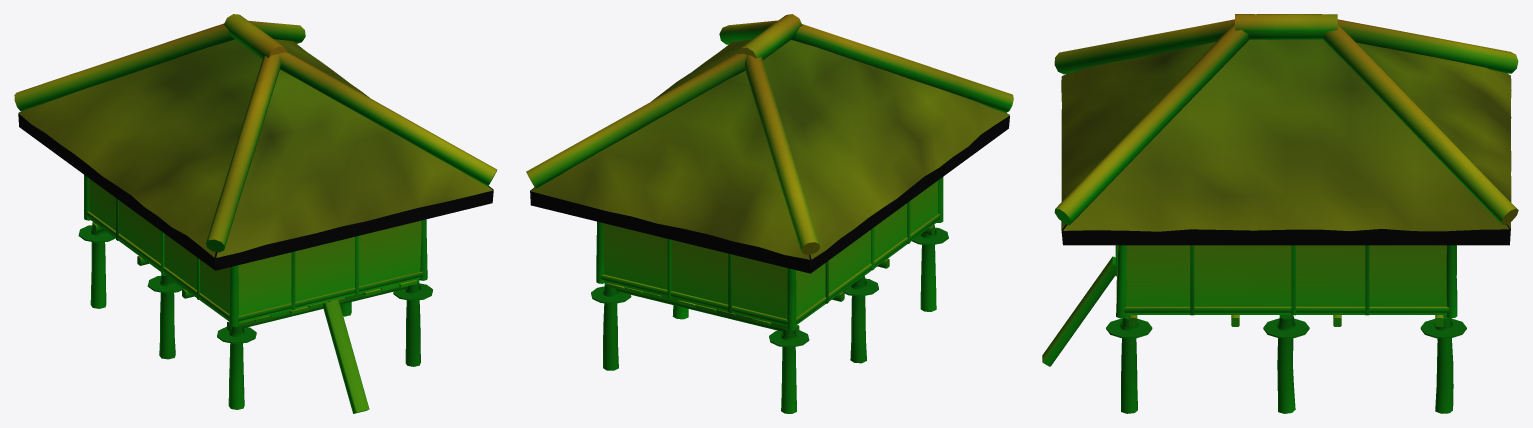
Rendered from storehouse_stilt.glb.
The picture shows the model from 3 angles, left to right: view 1: azimuth 30°, elevation 25°; view 2: azimuth 150°, elevation 25°; view 3: azimuth 270°, elevation 25°; orthographic projection. The views are drawn at different scales.
Parts seen in each view (by area): view 1: storehouse_stilt; view 2: storehouse_stilt; view 3: storehouse_stilt.
Part boxes in pixels (box(x1,y1,x2,y2)): storehouse_stilt: box(14, 14, 496, 413); storehouse_stilt: box(526, 14, 1013, 413); storehouse_stilt: box(1042, 14, 1518, 413).
Size of what is drawn, in the model's own units: 4.61 by 4.65 by 5.76.
